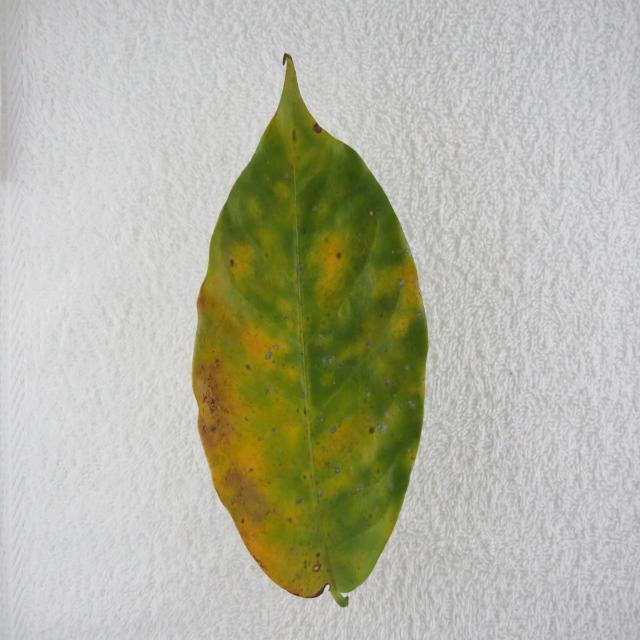DeficienciaNutricional-Fosforo: (192, 55, 428, 607)
